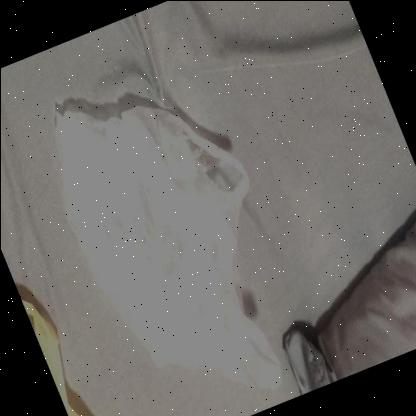Others: (47, 104, 280, 416)
